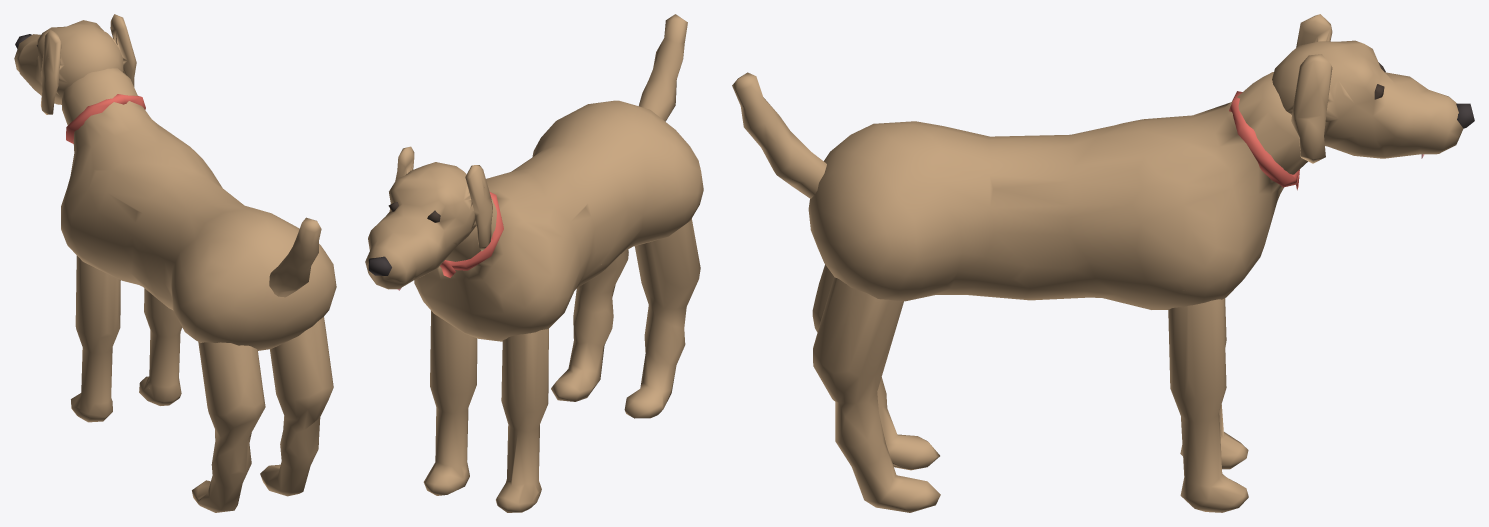
Rendered from dog.glb.
3 renders of one model, left to right at view 1: azimuth 30°, elevation 25°; view 2: azimuth 150°, elevation 25°; view 3: azimuth 270°, elevation 25°, orthographic. The views are drawn at different scales.
Parts seen in each view (by area): view 1: body_lod0, leg_bl_lod0, leg_br_lod0, head_lod0, leg_fl_lod0, leg_fr_lod0, tail_lod0; view 2: body_lod0, head_lod0, leg_bl_lod0, leg_fl_lod0, leg_fr_lod0, leg_br_lod0, tail_lod0; view 3: body_lod0, head_lod0, leg_br_lod0, leg_fr_lod0, tail_lod0, leg_bl_lod0, leg_fl_lod0.
Part boxes in pixels (x1=…): body_lod0: x1=61, y1=68, x2=336, y2=350; leg_bl_lod0: x1=192, y1=342, x2=265, y2=512; leg_br_lod0: x1=260, y1=317, x2=333, y2=496; head_lod0: x1=14, y1=14, x2=136, y2=114; leg_fl_lod0: x1=71, y1=255, x2=120, y2=422; leg_fr_lod0: x1=139, y1=288, x2=182, y2=405; tail_lod0: x1=269, y1=217, x2=321, y2=297; body_lod0: x1=414, y1=100, x2=703, y2=341; head_lod0: x1=365, y1=146, x2=492, y2=290; leg_bl_lod0: x1=624, y1=218, x2=700, y2=418; leg_fl_lod0: x1=496, y1=329, x2=548, y2=512; leg_fr_lod0: x1=423, y1=311, x2=477, y2=495; leg_br_lod0: x1=551, y1=249, x2=628, y2=401; tail_lod0: x1=639, y1=14, x2=687, y2=121; body_lod0: x1=808, y1=72, x2=1307, y2=309; head_lod0: x1=1272, y1=14, x2=1474, y2=163; leg_br_lod0: x1=813, y1=277, x2=940, y2=512; leg_fr_lod0: x1=1168, y1=299, x2=1248, y2=512; tail_lod0: x1=732, y1=72, x2=826, y2=198; leg_bl_lod0: x1=812, y1=264, x2=939, y2=470; leg_fl_lod0: x1=1180, y1=298, x2=1248, y2=469.
Size of what is drawn, in the model's own units: 0.2995 by 0.6815 by 1.01.
